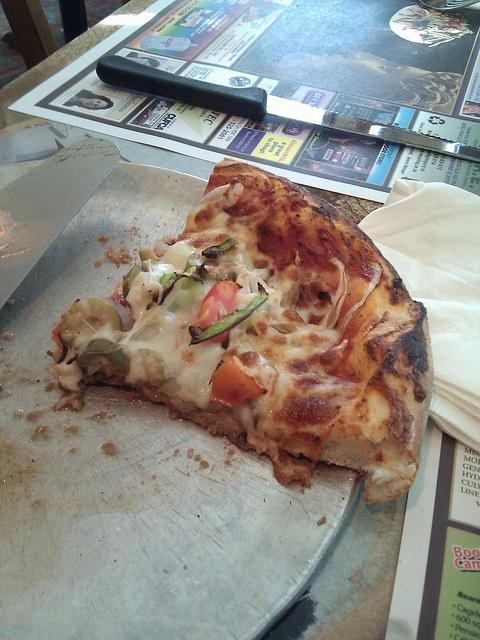bell pepper: (188, 282, 270, 344), (194, 278, 244, 343), (146, 261, 208, 310), (202, 238, 238, 258)
tomato: (195, 278, 243, 343), (209, 356, 269, 408), (51, 314, 65, 348), (110, 292, 127, 308)
